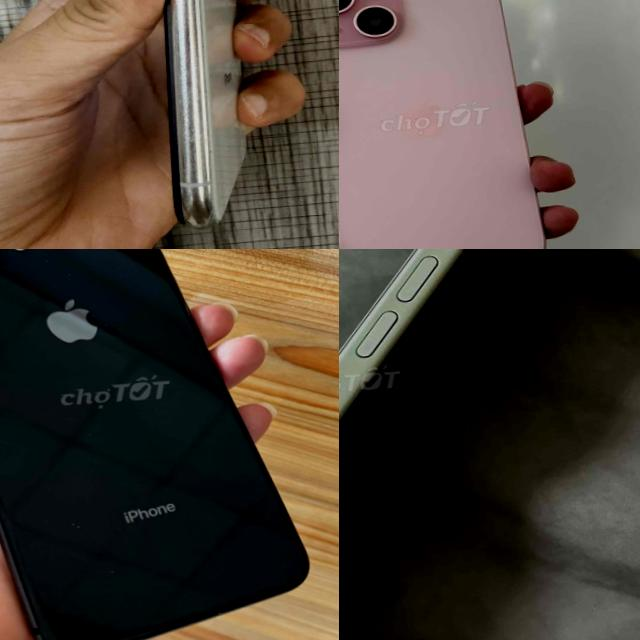gen_15: (339, 249, 602, 640), (339, 0, 599, 249)
gen_7_8: (0, 249, 339, 640)
gen_x_xs: (163, 0, 244, 227)
scratch: (37, 504, 94, 545), (90, 318, 126, 341), (98, 554, 124, 584), (77, 422, 108, 447), (13, 604, 43, 628), (33, 249, 62, 270), (61, 266, 83, 278)
